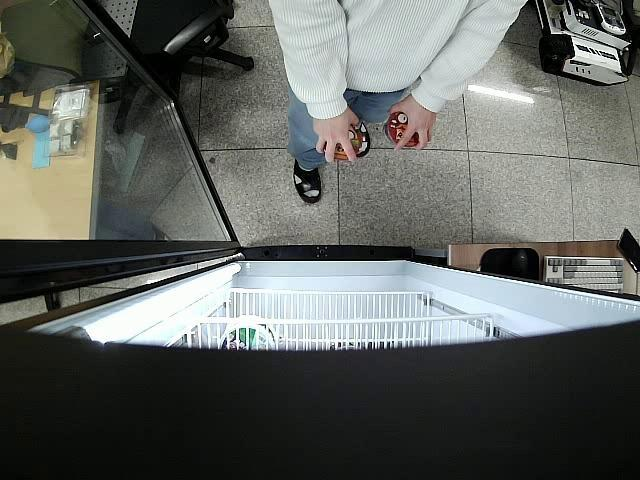06_nuguri_S: (382, 110, 423, 146), (328, 124, 361, 162)
